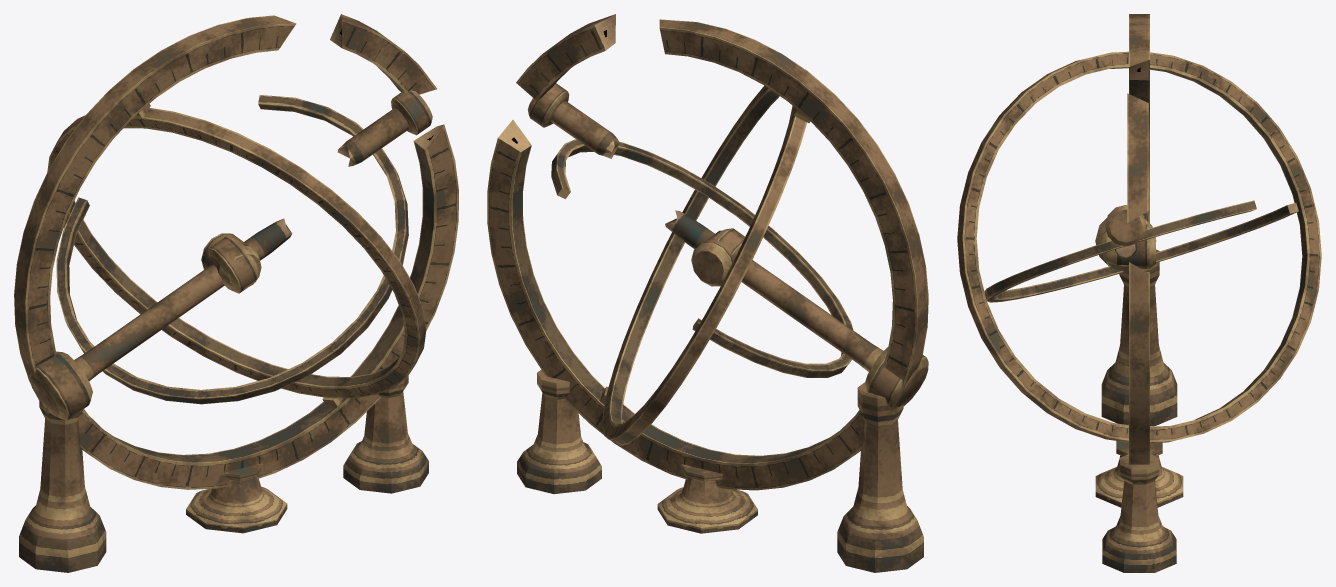
Rendered from ArmillarySeparated.fbx.
3 views of the same model, side by side, from view 1: azimuth 30°, elevation 25°; view 2: azimuth 150°, elevation 25°; view 3: azimuth 270°, elevation 25° (orthographic). The views are drawn at different scales.
Parts seen in each view (by area): view 1: StationaryFrame, IntactCircle; view 2: StationaryFrame, IntactCircle; view 3: StationaryFrame, IntactCircle.
Boxes of the visible parts, box(x1,y1,x2,y2) form: StationaryFrame: box(14, 14, 458, 572); IntactCircle: box(47, 108, 426, 398); StationaryFrame: box(487, 14, 928, 572); IntactCircle: box(602, 69, 807, 445); StationaryFrame: box(984, 14, 1298, 572); IntactCircle: box(957, 51, 1321, 443).
Size of the model in its own units: 2.55 by 2.74 by 1.99.
